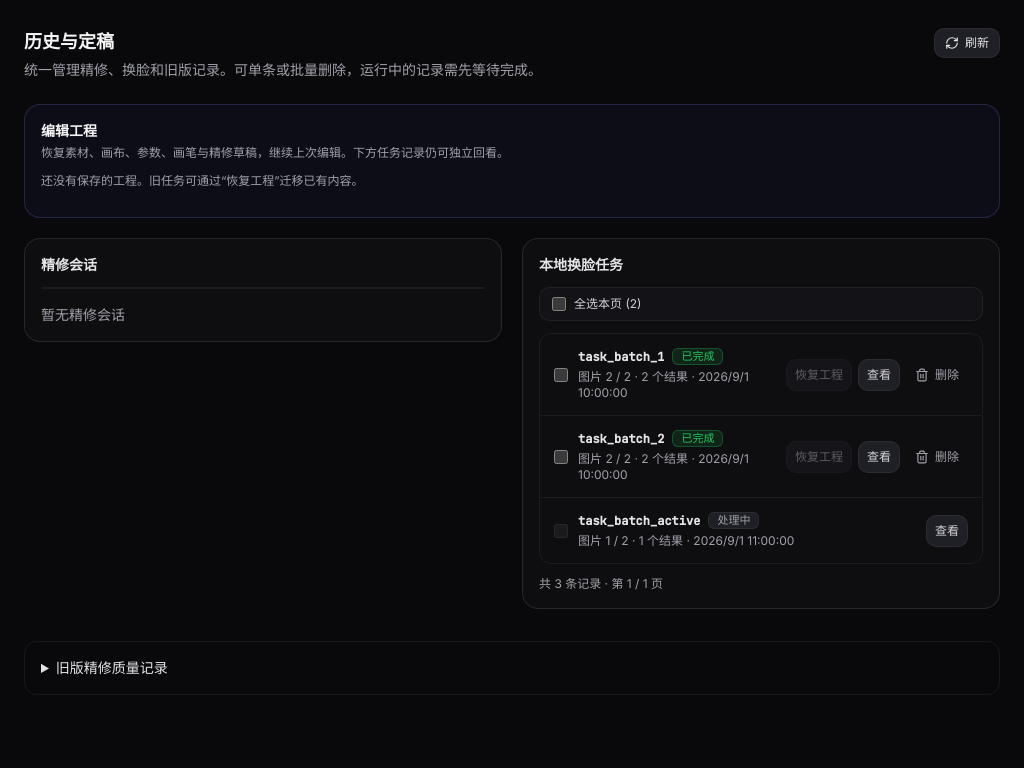
Scenario: HistoryWorkspace batch task deletion › supports selecting all terminal tasks on page and batch deleting them
Expected: the text "task_batch_1" is shown, [578,348,664,364]
Note: Check "全选本页"
Click the checkbox labelled "全选本页". click: {"x": 559, "y": 304}
box: [552,297,566,311]
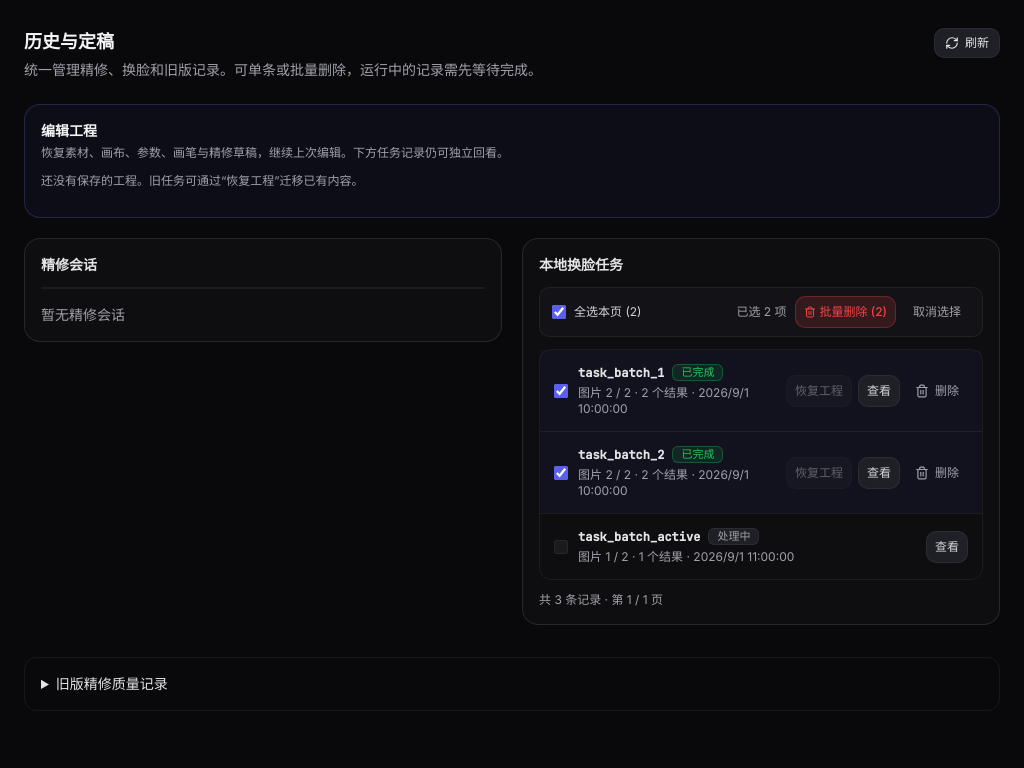
Now the text "已选 2 项" is shown, box [736,304,786,320]
Now the button with aria-label "批量删除 2 项" is shown
Note: Click batch delete
Click the button with aria-label "批量删除 2 项". click: {"x": 845, "y": 312}
box: [794,296,896,328]
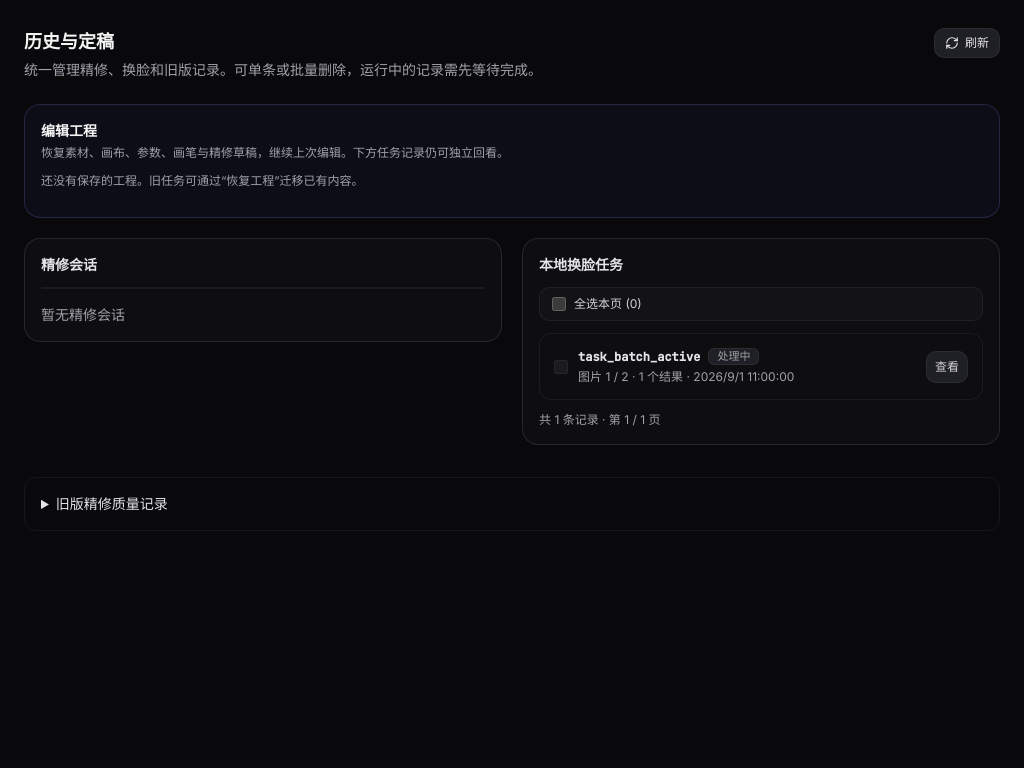
Expected: the text "task_batch_active" is shown, [578,348,700,364]
Now the button "task_batch_1" is gone
Now the button "task_batch_2" is gone
